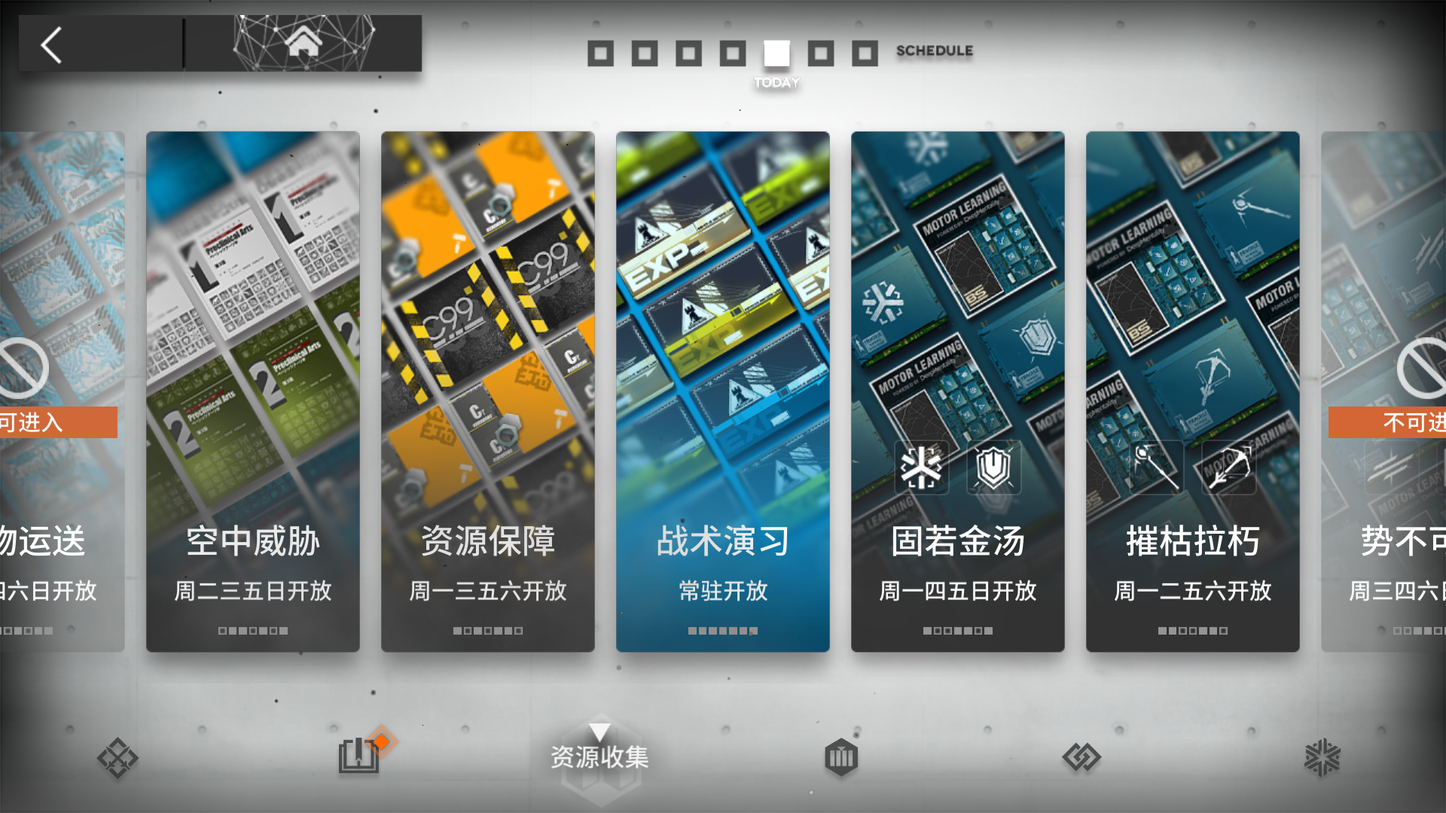Return_Button: (20, 15, 160, 73)
tactical_maneuver_button: (623, 132, 828, 650)
